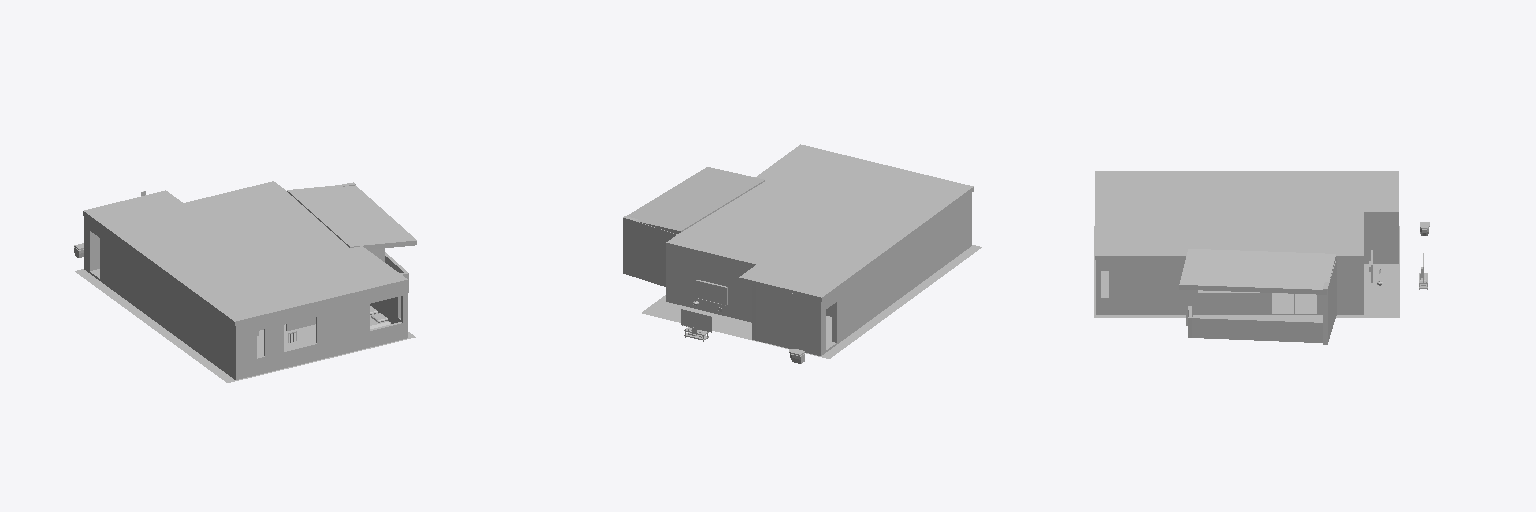
The model's file is OttoBrandt_19-01-2019_kitchen-re-org.obj.
3 views of the same model, side by side, from view 1: azimuth 30°, elevation 25°; view 2: azimuth 150°, elevation 25°; view 3: azimuth 270°, elevation 25° (orthographic).
Visible parts, largest first — view 1: roof_Cube.002, wall_outer_Cube, Floor_Plane; view 2: roof_Cube.002, wall_outer_Cube, Floor_Plane, bedroom_desk.001_Cube.016, wall_tv_Cube.027; view 3: roof_Cube.002, wall_outer_Cube, Floor_Plane.
Boxes of the visible parts, x1=… form: roof_Cube.002: x1=83, y1=181, x2=416, y2=325; wall_outer_Cube: x1=84, y1=182, x2=408, y2=379; Floor_Plane: x1=75, y1=269, x2=415, y2=382; roof_Cube.002: x1=627, y1=144, x2=973, y2=301; wall_outer_Cube: x1=623, y1=193, x2=971, y2=355; Floor_Plane: x1=642, y1=245, x2=981, y2=358; bedroom_desk.001_Cube.016: x1=681, y1=309, x2=711, y2=341; wall_tv_Cube.027: x1=696, y1=280, x2=727, y2=305; roof_Cube.002: x1=1095, y1=171, x2=1398, y2=294; wall_outer_Cube: x1=1096, y1=216, x2=1398, y2=344; Floor_Plane: x1=1094, y1=226, x2=1399, y2=320.
Size of the model in its own units: 11.35 by 2.76 by 15.05.